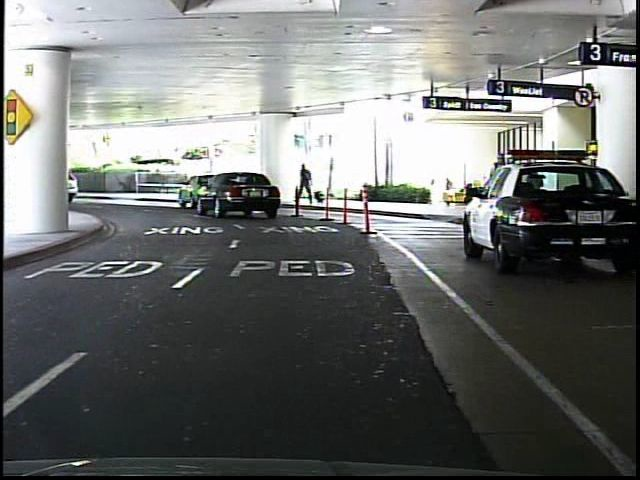person: (295, 161, 320, 208)
